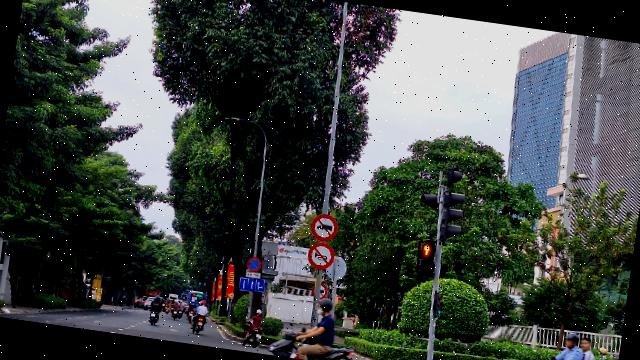cam-bop-coi: (306, 240, 336, 271)
cam-do-xe: (245, 255, 262, 272)
